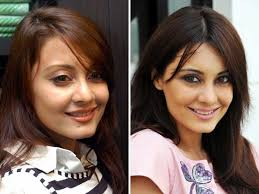n.blunt: (198, 81, 219, 105)
